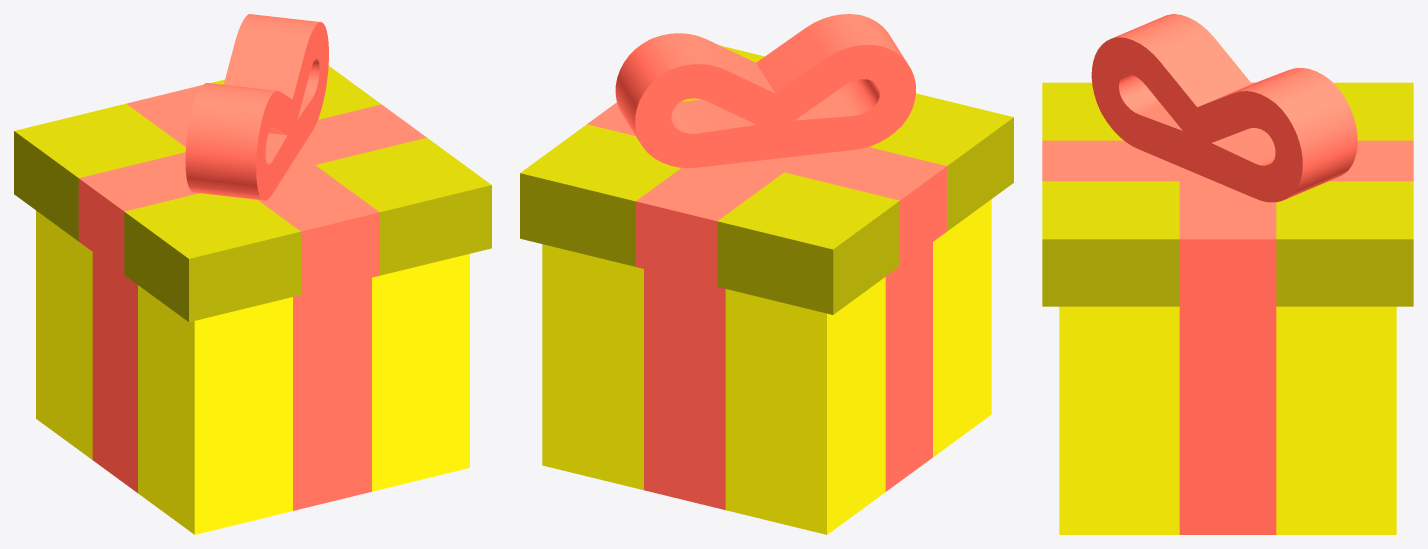
File: present.glb
The picture shows the model from 3 angles, left to right: view 1: azimuth 30°, elevation 25°; view 2: azimuth 150°, elevation 25°; view 3: azimuth 270°, elevation 25°; orthographic projection. The views are drawn at different scales.
Visible parts, largest first — view 1: Mesh_present, Mesh_lid, Mesh lid_1, Mesh present_1; view 2: Mesh_present, Mesh lid_1, Mesh_lid, Mesh present_1; view 3: Mesh_present, Mesh lid_1, Mesh_lid, Mesh present_1.
Part boxes in pixels (x1=…): Mesh_present: x1=36, y1=210, x2=469, y2=534; Mesh_lid: x1=14, y1=66, x2=491, y2=322; Mesh lid_1: x1=78, y1=14, x2=426, y2=294; Mesh present_1: x1=92, y1=252, x2=371, y2=510; Mesh_present: x1=542, y1=199, x2=991, y2=534; Mesh lid_1: x1=587, y1=14, x2=946, y2=286; Mesh_lid: x1=520, y1=45, x2=1013, y2=314; Mesh present_1: x1=644, y1=242, x2=932, y2=509; Mesh_present: x1=1059, y1=306, x2=1396, y2=534; Mesh lid_1: x1=1042, y1=14, x2=1413, y2=306; Mesh_lid: x1=1042, y1=82, x2=1413, y2=306; Mesh present_1: x1=1179, y1=306, x2=1276, y2=534.
Size of the model in its own units: 0.3727 by 0.4535 by 0.3727.
